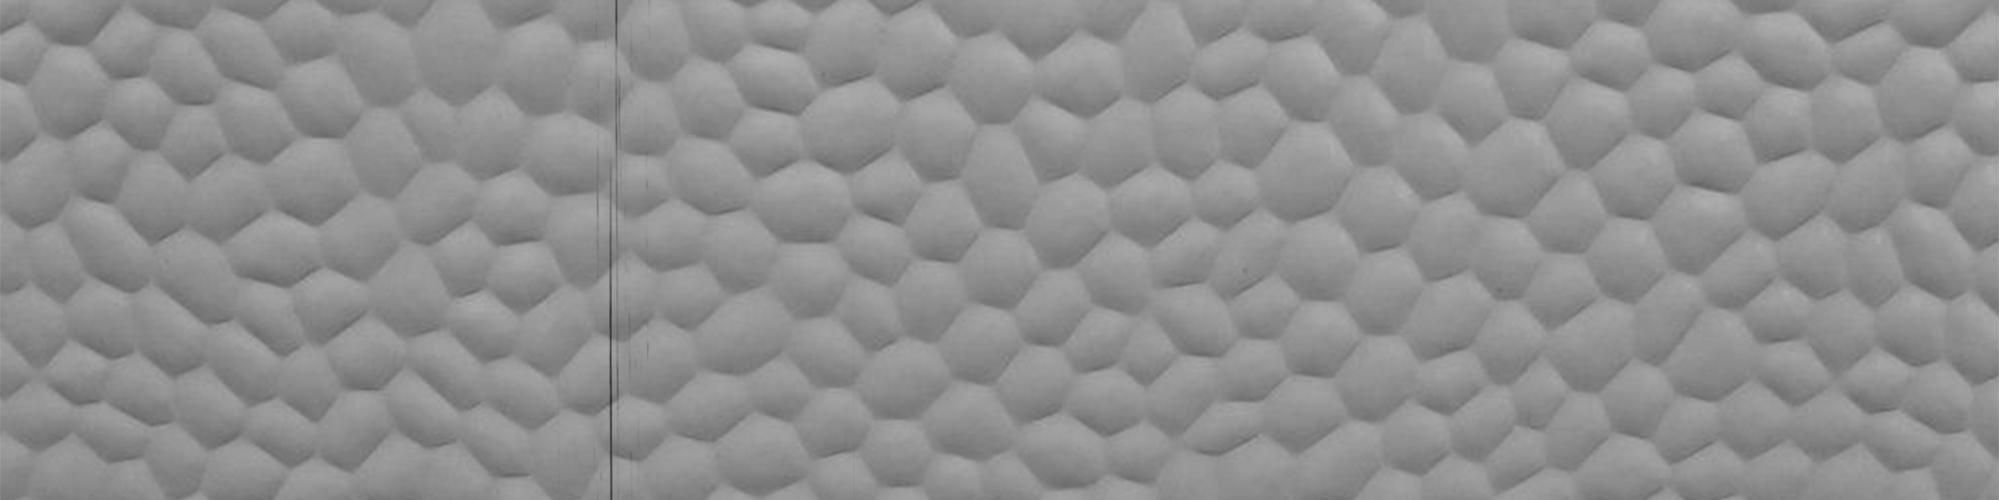DieDrag: (589, 3, 652, 497)
